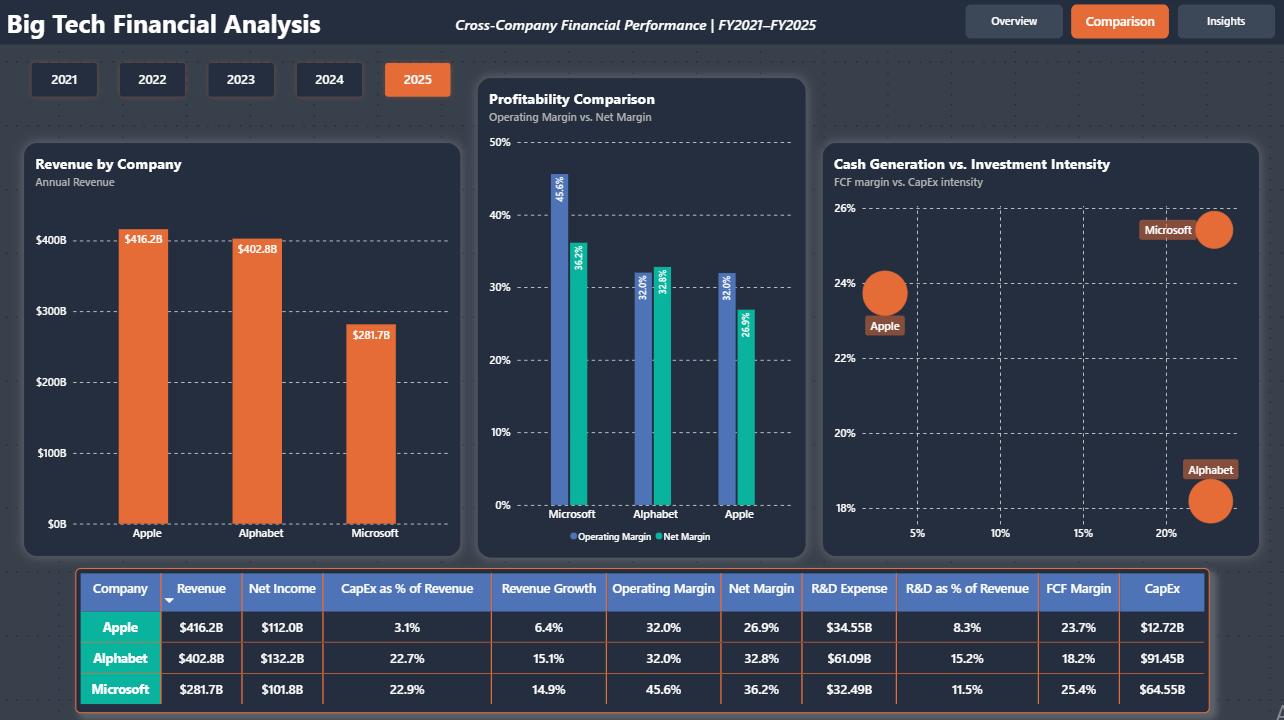

The page's visual inventory and layout, read from the dashboard file:
{"tool":"powerbi","page":{"name":"Comparison","canvas":[1920,1080],"ordinal":1},"visuals":[{"type":"shape","box":[0,0,1920,68.8],"z":0},{"type":"advancedSlicerVisual","fields":{"Values":["Dim Year.Fiscal Year"]},"box":[45.3,85.1,646.6,72.5],"z":2000},{"type":"clusteredColumnChart","title":"Revenue by Company","fields":{"Category":["Dim Company.Company"],"Y":["Sum(company_kpis.Revenue ($B))"]},"box":[45.3,215.5,646.6,612.2],"z":3000},{"type":"clusteredColumnChart","title":"Profitability Comparison","fields":{"Category":["Dim Company.Company"],"Y":["Sum(company_kpis.Operating Margin (%))","Sum(company_kpis.Net Margin (%))"]},"box":[717.3,117.7,485.4,710],"z":4000},{"type":"scatterChart","title":"Cash Generation vs. Investment Intensity","fields":{"X":["Sum(company_kpis.CapEx as % of Revenue)"],"Y":["Sum(company_kpis.Free Cash Flow Margin (%))"],"Size":["Sum(company_kpis.Revenue ($B))"],"Category":["Dim Company.Company"]},"box":[1228.1,215.5,646.6,612.2],"z":5000},{"type":"pivotTable","title":"Hello","fields":{"Rows":["Dim Company.Company"],"Values":["Sum(company_kpis.Revenue ($B))","Sum(company_kpis.Net Income  ($B))","Sum(company_kpis.CapEx as % of Revenue)","Dim Company.Revenue Growth Display","Sum(company_kpis.Operating Margin (%))","Sum(company_kpis.Net Margin (%))","Sum(company_kpis.R&D Expense ($B))","Sum(company_kpis.R&D as % of Revenue)","Sum(company_kpis.Free Cash Flow Margin (%))","Sum(company_kpis.Capital Expenditure ($B))"]},"box":[119.5,844.1,1680.9,215.5],"z":6000},{"type":"textbox","box":[18.5,11.1,514.4,58],"z":7000},{"type":"textbox","box":[683.3,24.5,551.5,45.2],"z":8000},{"type":"pageNavigator","box":[1438.2,9.2,461.5,51.7],"z":9000}]}

Visuals, with their boxes in screenshot pixels (x1, y1, x2, y2), scaled from the page's 1920x1080 canvas onto the 1284x720 screenshot:
shape: rect(0, 0, 1283, 46)
advancedSlicerVisual - Dim Year.Fiscal Year: rect(30, 57, 463, 105)
"Revenue by Company" clusteredColumnChart: rect(30, 144, 463, 552)
"Profitability Comparison" clusteredColumnChart: rect(480, 78, 804, 552)
"Cash Generation vs. Investment Intensity" scatterChart: rect(821, 144, 1254, 552)
"Hello" pivotTable: rect(80, 563, 1204, 706)
textbox: rect(12, 7, 356, 46)
textbox: rect(457, 16, 826, 46)
pageNavigator: rect(962, 6, 1270, 41)
